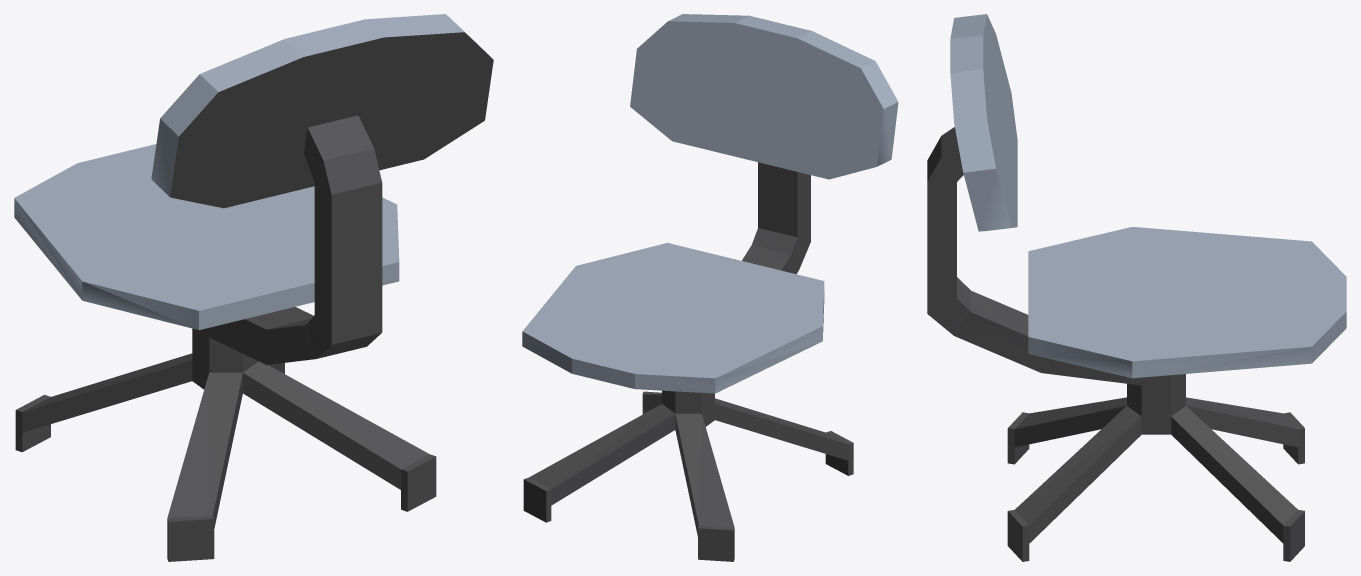
The model's file is Envi12.dae.
The picture shows the model from 3 angles, left to right: view 1: azimuth 30°, elevation 25°; view 2: azimuth 150°, elevation 25°; view 3: azimuth 270°, elevation 25°; orthographic projection. The views are drawn at different scales.
Parts seen in each view (by area): view 1: Cylinder.033; view 2: Cylinder.033; view 3: Cylinder.033.
Boxes of the visible parts, <box> form: Cylinder.033: <box>14,14,493,561</box>; Cylinder.033: <box>522,14,898,561</box>; Cylinder.033: <box>927,14,1346,561</box>.
Bounding box in the file's own units: 0.691 × 0.9102 × 1.08.
